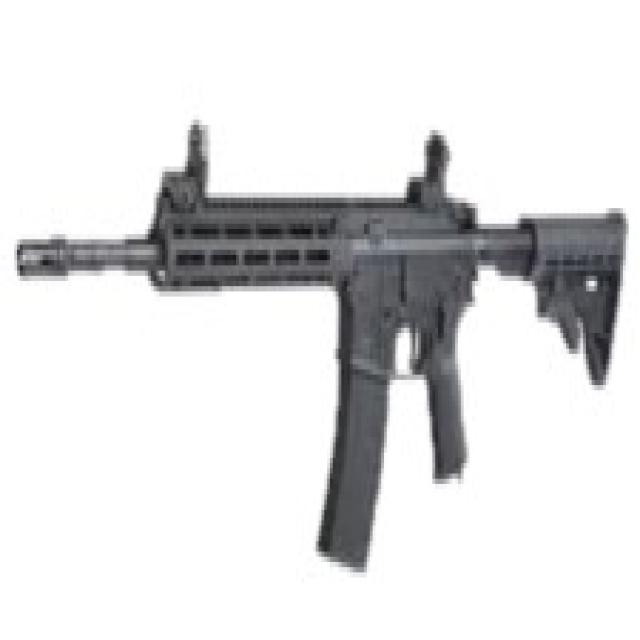rifle: (15, 102, 638, 609)
